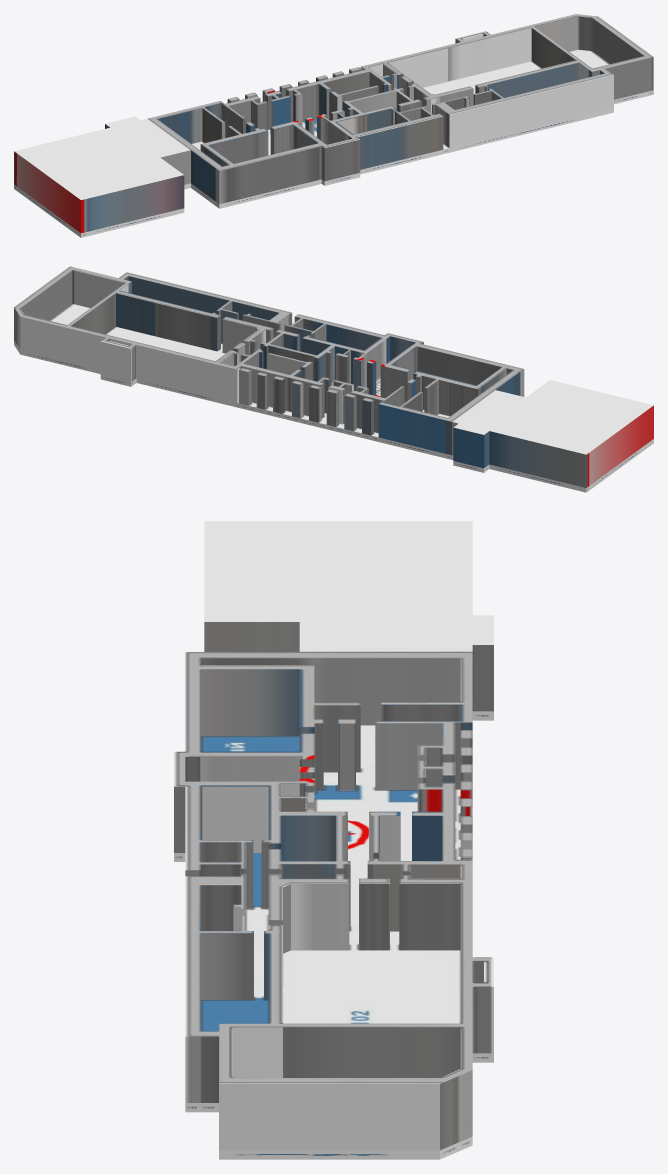
The model's file is TestFBX.fbx.
The picture shows the model from 3 angles, top to bottom: view 1: azimuth 30°, elevation 25°; view 2: azimuth 150°, elevation 25°; view 3: azimuth 270°, elevation 25°; orthographic projection. The views are drawn at different scales.
Visible parts, largest first — view 1: pPlane4; view 2: pPlane4; view 3: pPlane4.
Boxes of the visible parts, x1,y1,x2,y2 form: pPlane4: (14,14,653,237); pPlane4: (14,266,653,492); pPlane4: (174,521,493,1159).
Size of the model in its own units: 759 by 47.46 by 182.
1 material, 1 textured.
